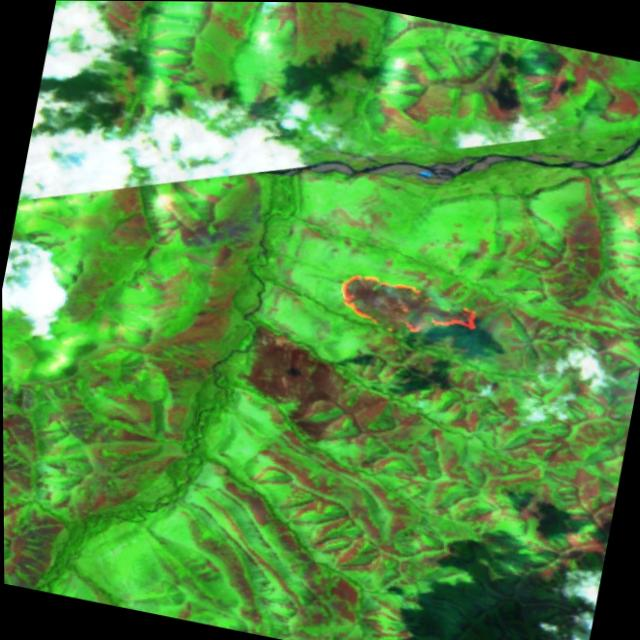fire: (318, 250, 499, 351)
